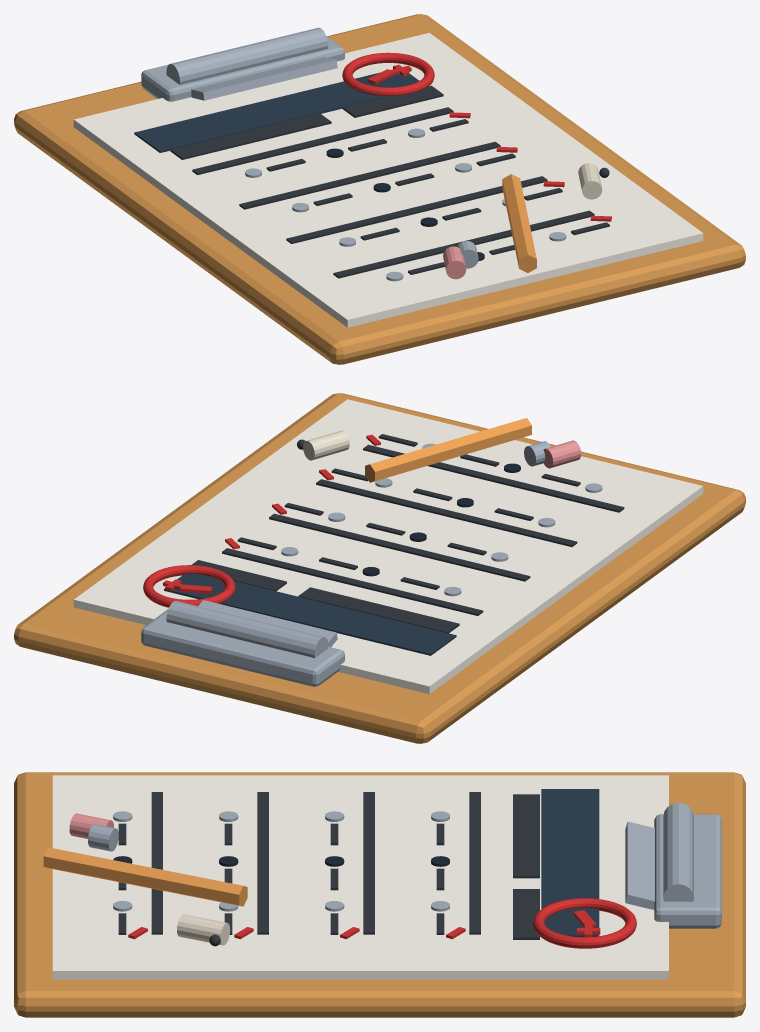
Rendered from Collectible_ExaminationPaper.glb.
The picture shows the model from 3 angles, top to bottom: view 1: azimuth 30°, elevation 25°; view 2: azimuth 150°, elevation 25°; view 3: azimuth 270°, elevation 25°; orthographic projection. The views are drawn at different scales.
Visible parts, largest first — view 1: Collectible_ExaminationPaper; view 2: Collectible_ExaminationPaper; view 3: Collectible_ExaminationPaper.
Part boxes in pixels (<box>): Collectible_ExaminationPaper: <box>14,14,745,364</box>; Collectible_ExaminationPaper: <box>14,393,745,743</box>; Collectible_ExaminationPaper: <box>14,772,745,1017</box>.
Size of the model in its own units: 0.28 by 0.037 by 0.38.
